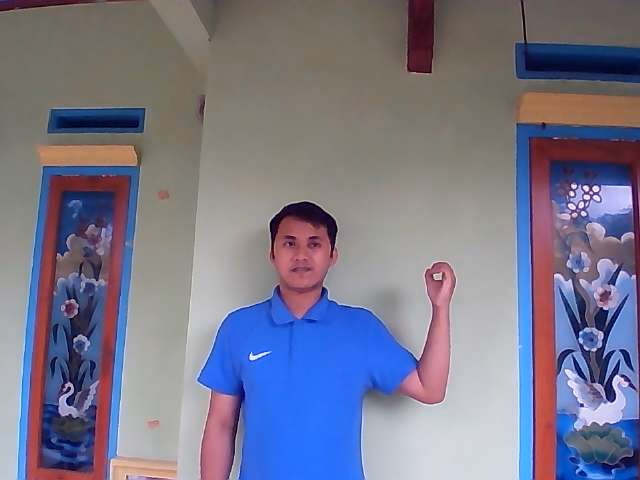O: (423, 260, 458, 307)
